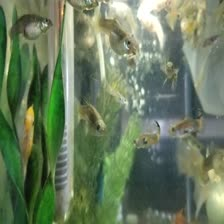Guppy: (70, 93, 111, 141), (3, 11, 59, 43), (130, 113, 167, 150), (96, 17, 137, 48), (166, 113, 205, 140)
Plano: (18, 104, 36, 176)
